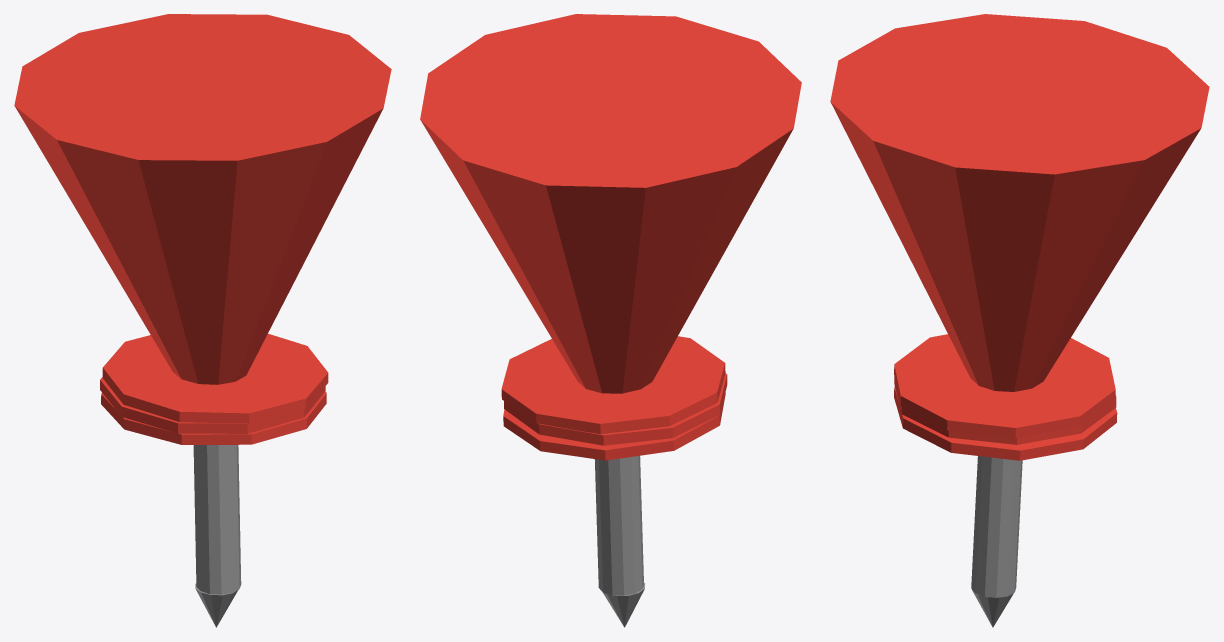
The model's file is pin.fbx.
3 views of the same model, side by side, from view 1: azimuth 30°, elevation 25°; view 2: azimuth 150°, elevation 25°; view 3: azimuth 270°, elevation 25° (orthographic).
Visible parts, largest first — view 1: mesh_1083301103, group_1749965395, mesh_1868542241, group_171741506, group_297935826, mesh_141706342; view 2: mesh_1083301103, group_1749965395, mesh_1868542241, group_171741506, group_297935826, mesh_141706342; view 3: mesh_1083301103, group_1749965395, mesh_1868542241, group_171741506, group_297935826, mesh_141706342.
Boxes of the visible parts, left/top/right/bottom form: mesh_1083301103: left=14, top=14, right=391, bottom=384; group_1749965395: left=102, top=333, right=328, bottom=423; mesh_1868542241: left=193, top=445, right=241, bottom=594; group_171741506: left=101, top=391, right=326, bottom=444; group_297935826: left=100, top=377, right=325, bottom=433; mesh_141706342: left=195, top=583, right=238, bottom=627; mesh_1083301103: left=420, top=14, right=801, bottom=393; group_1749965395: left=501, top=336, right=725, bottom=434; mesh_1868542241: left=594, top=455, right=643, bottom=595; group_171741506: left=503, top=392, right=725, bottom=460; group_297935826: left=504, top=373, right=727, bottom=445; mesh_141706342: left=602, top=583, right=645, bottom=627; mesh_1083301103: left=830, top=14, right=1209, bottom=391; group_1749965395: left=894, top=334, right=1115, bottom=438; mesh_1868542241: left=971, top=456, right=1022, bottom=597; group_171741506: left=894, top=386, right=1117, bottom=460; group_297935826: left=894, top=376, right=1116, bottom=444; mesh_141706342: left=971, top=589, right=1015, bottom=627.
Size of the model in its own units: 16.72 by 26.3 by 16.71.
